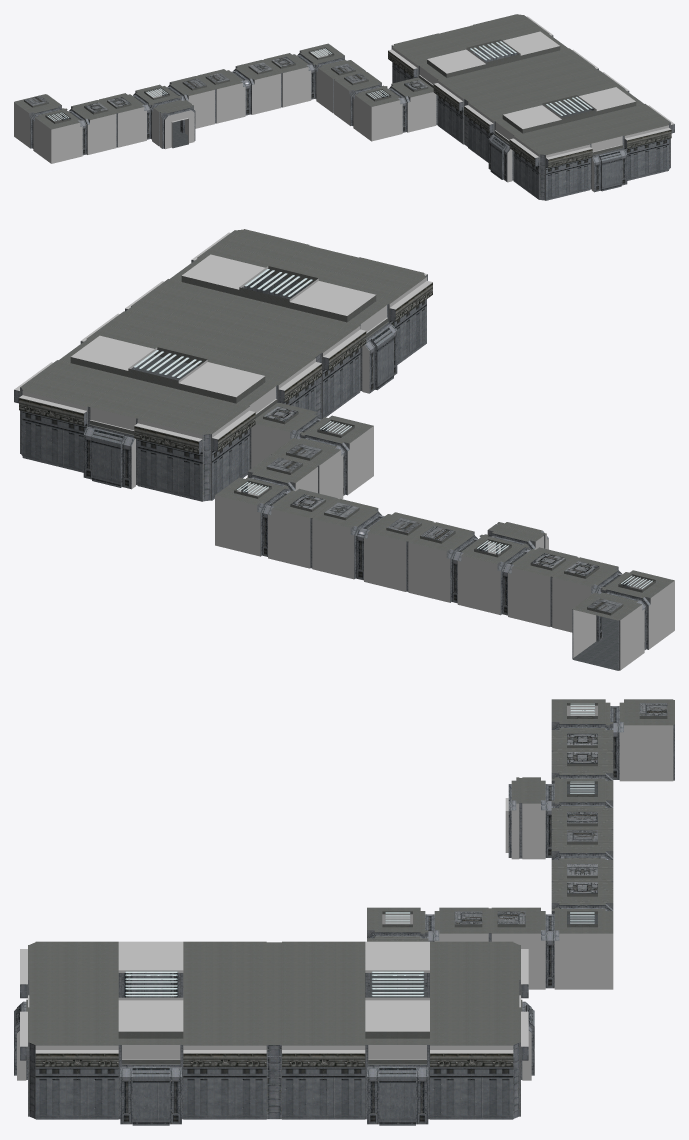
The model's file is poi_all_impl_bunker_imperial_prison_s01_r17_interrogation_quarters_mesh_r17.fbx.
3 views of the same model, one above another, from view 1: azimuth 30°, elevation 25°; view 2: azimuth 150°, elevation 25°; view 3: azimuth 270°, elevation 25° (orthographic). The views are drawn at different scales.
Parts seen in each view (by area): view 1: mesh_node; view 2: mesh_node; view 3: mesh_node.
Part boxes in pixels (x1,y1,x2,y2): mesh_node: [14, 14, 674, 200]; mesh_node: [14, 229, 674, 670]; mesh_node: [14, 699, 674, 1125].
Bounding box in the file's own units: 56.9 × 6 × 42.9.
